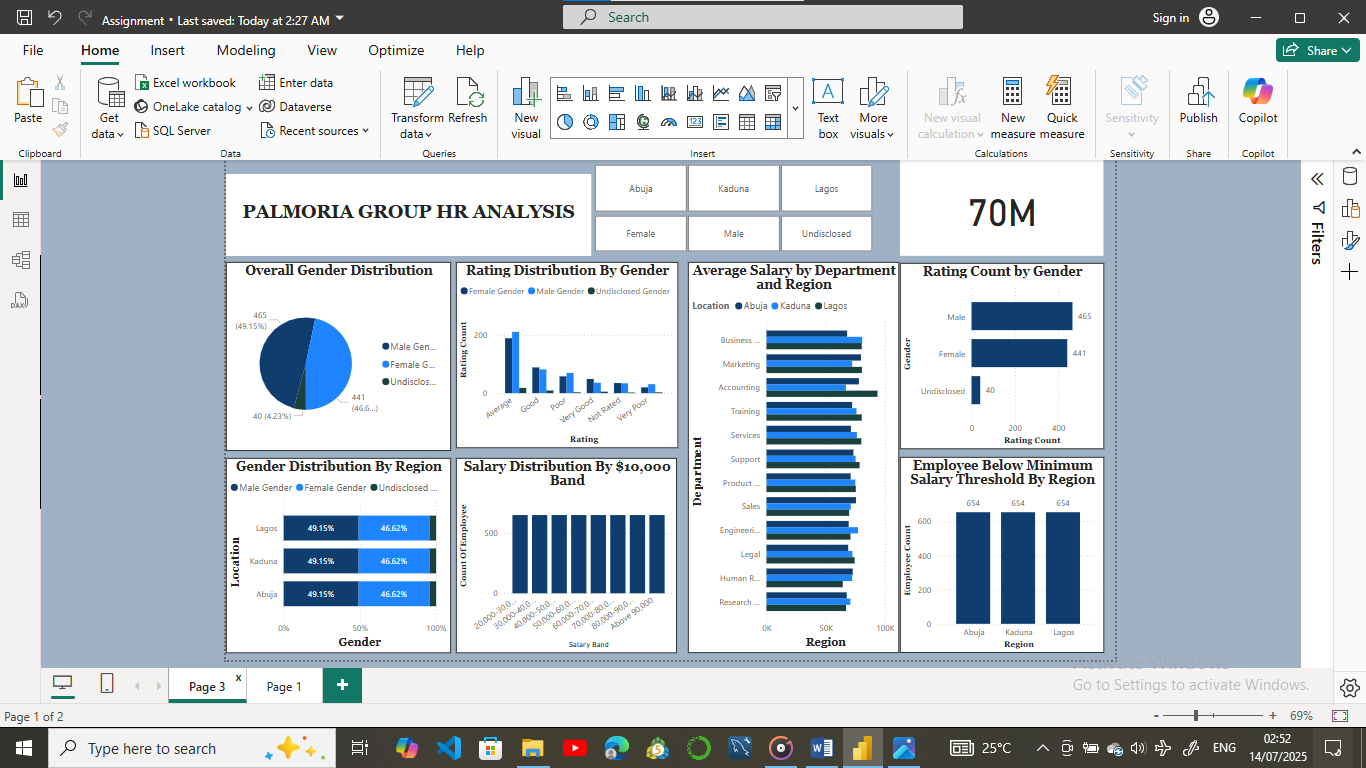

Layout of this report page (visuals, bound fields, positions):
{"tool":"powerbi","page":{"name":"Page 3","canvas":[1280,720],"ordinal":0},"visuals":[{"type":"scatterChart","title":"Salary Vs Gender","fields":{"X":["Palmoria Group Emp-bonus data.Salary"],"Category":["Palmoria Group Emp-bonus data.Gender"]},"box":[970.7,0,293.2,146.6],"z":0},{"type":"clusteredColumnChart","title":"Rating Distribution By Gender","fields":{"Category":["Palmoria Group Emp-bonus data.Rating"],"Y":["Palmoria Measures.Female Gender","Palmoria Measures.Male Gender","Palmoria Measures.Undisclosed Gender"]},"box":[331.2,146.9,319.7,267.8],"z":1000},{"type":"pieChart","title":"Overall Gender Distribution","fields":{"Category":["Palmoria Group Emp-bonus data.Gender"],"Y":["Palmoria Measures.Gender Percentage"]},"box":[0,146.6,323.6,271.7],"z":2000},{"type":"clusteredColumnChart","title":"Employee Below Minimum Salary Threshold By Region","fields":{"Category":["Palmoria Group Emp-bonus data.Location"],"Y":["Palmoria Measures.Employee Below Minimum Salary"]},"box":[970.6,427.7,293.8,282.2],"z":3000},{"type":"clusteredBarChart","title":"Average Salary by Department and Region","fields":{"Series":["Palmoria Group emp-data.Location"],"Category":["Palmoria Group emp-data.Department"],"Y":["Palmoria Measures.Average Salary"]},"box":[665,146.6,303.9,563.1],"z":4000},{"type":"hundredPercentStackedBarChart","title":"Gender Distribution By Region","fields":{"Category":["Palmoria Group emp-data.Location","Palmoria Group emp-data.Department"],"Y":["Palmoria Measures.Male Gender","Palmoria Measures.Female Gender","Palmoria Measures.Undisclosed Gender"]},"box":[0,429.1,323.6,280.7],"z":5000},{"type":"clusteredColumnChart","title":"Salary Distribution By $10,000 Band","fields":{"Category":["Palmoria Group Emp-bonus data.Salary Band"],"Y":["Palmoria Measures.Employee Below Minimum Salary"]},"box":[331.2,429.1,318.2,280.8],"z":6000},{"type":"clusteredBarChart","fields":{"Category":["Palmoria Group emp-data.Gender"],"Y":["Palmoria Measures.Rating Count"]},"box":[970.6,148.3,293.8,267.8],"z":7000},{"type":"slicer","fields":{"Values":["Palmoria Group emp-data.Gender"]},"box":[505.9,73.3,448.7,64.4],"z":8000},{"type":"textbox","box":[0,19.7,491.6,60.8],"z":9000},{"type":"slicer","fields":{"Values":["Palmoria Group emp-data.Location"]},"box":[532.7,0,395.1,73.3],"z":10000}]}

Visuals, with their boxes on the page's 1280x720 design canvas (x1, y1, x2, y2). These are canvas units, not pixel positions in the 1366x768 screenshot, which may show the page scaled, cropped or inside an application window:
"Salary Vs Gender" scatterChart: locate(971, 0, 1264, 147)
"Rating Distribution By Gender" clusteredColumnChart: locate(331, 147, 651, 415)
"Overall Gender Distribution" pieChart: locate(0, 147, 324, 418)
"Employee Below Minimum Salary Threshold By Region" clusteredColumnChart: locate(971, 428, 1264, 710)
"Average Salary by Department and Region" clusteredBarChart: locate(665, 147, 969, 710)
"Gender Distribution By Region" hundredPercentStackedBarChart: locate(0, 429, 324, 710)
"Salary Distribution By $10,000 Band" clusteredColumnChart: locate(331, 429, 649, 710)
clusteredBarChart - Palmoria Group emp-data.Gender x Palmoria Measures.Rating Count: locate(971, 148, 1264, 416)
slicer - Palmoria Group emp-data.Gender: locate(506, 73, 955, 138)
textbox: locate(0, 20, 492, 80)
slicer - Palmoria Group emp-data.Location: locate(533, 0, 928, 73)
